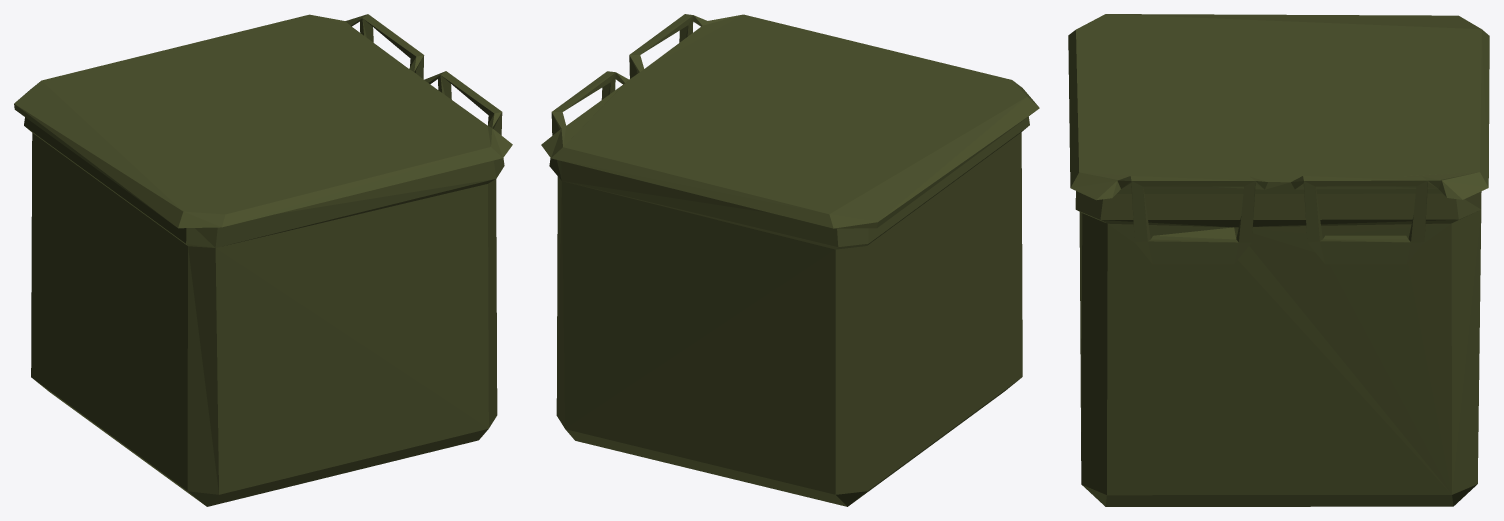
File: model_Kosz_duzy.fbx
The picture shows the model from 3 angles, left to right: view 1: azimuth 30°, elevation 25°; view 2: azimuth 150°, elevation 25°; view 3: azimuth 270°, elevation 25°; orthographic projection. The views are drawn at different scales.
Parts seen in each view (by area): view 1: kosz; view 2: kosz; view 3: kosz.
Part boxes in pixels (x1=…): kosz: x1=14, y1=14, x2=512, y2=506; kosz: x1=541, y1=14, x2=1039, y2=506; kosz: x1=1068, y1=14, x2=1489, y2=506.
Size of the model in its own units: 133 by 121 by 138.
